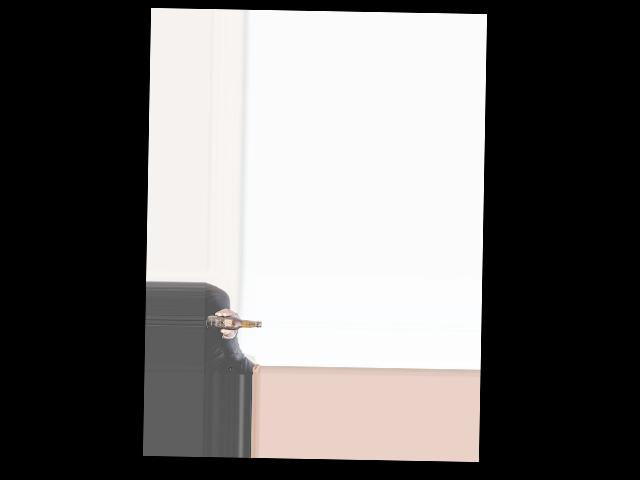beer: (206, 314, 261, 330)
